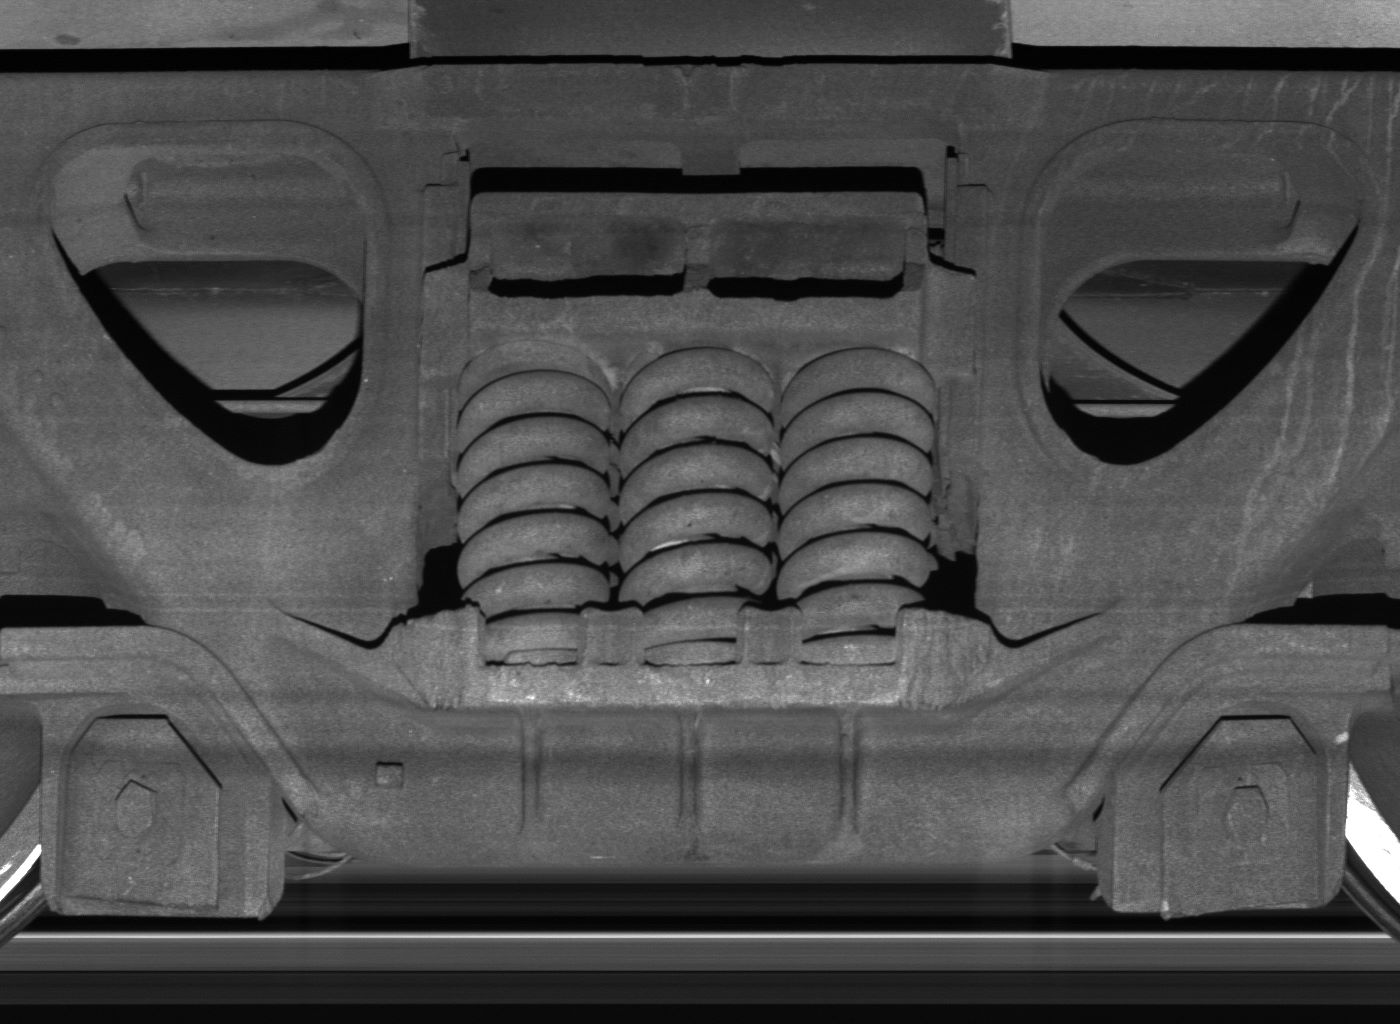normal: (1112, 687, 1347, 923), (45, 695, 268, 917)
